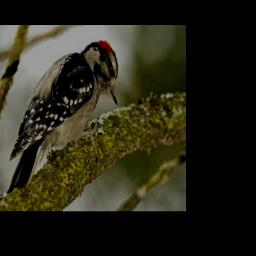Woodpecker: (0, 37, 119, 199)
